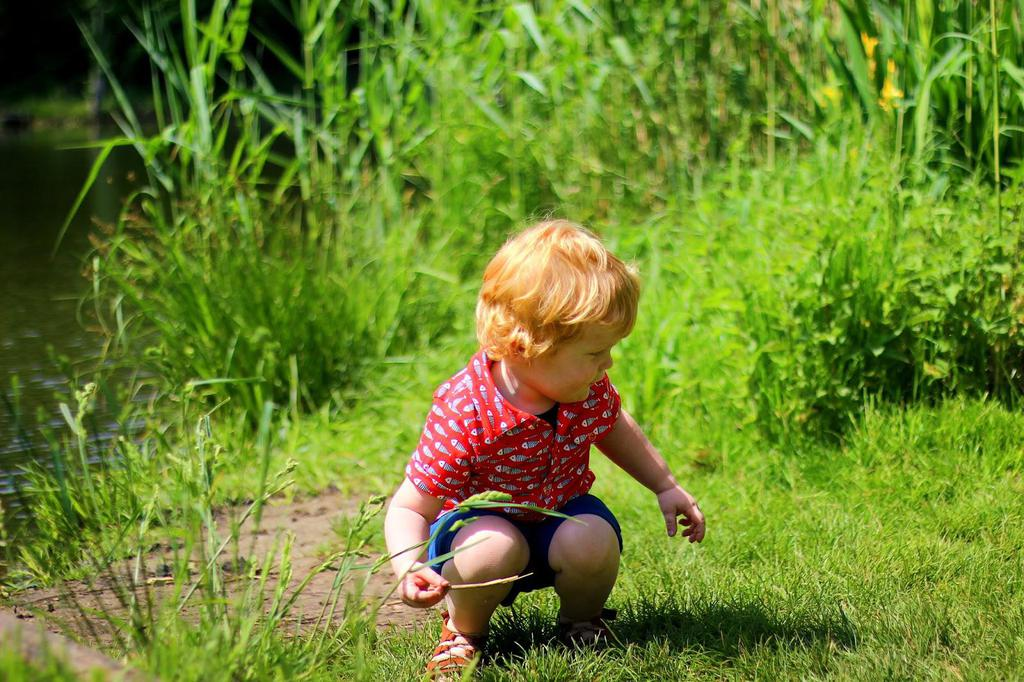child: (354, 212, 714, 660)
